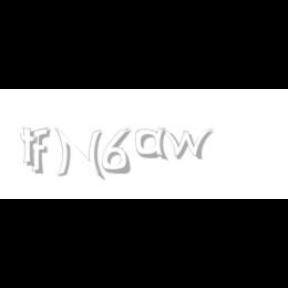6: (102, 128, 130, 176)
N: (55, 128, 104, 180)
a: (136, 128, 172, 160)
f: (30, 128, 54, 174)
t: (20, 128, 42, 168)
w: (158, 128, 218, 160)
